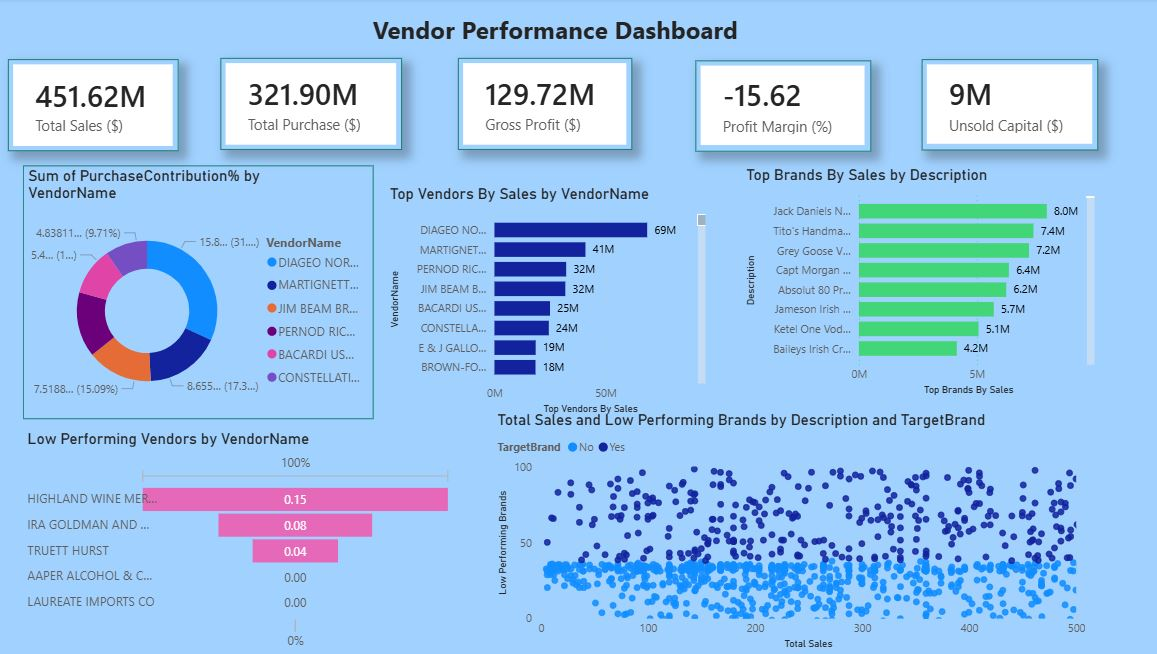

What the dashboard file says about the page in this screenshot:
{"tool":"powerbi","page":{"name":"Page 1","canvas":[1280,720],"ordinal":0},"visuals":[{"type":"cardVisual","fields":{"Data":["Sum(vendor_sales_summary.TotalSalesDollars)"]},"box":[16.6,67.9,187.1,101.1],"z":0},{"type":"cardVisual","fields":{"Data":["Sum(vendor_sales_summary.TotalPurchaseDollars)"]},"box":[249.4,66.5,199.5,101.1],"z":1000},{"type":"cardVisual","fields":{"Data":["Sum(vendor_sales_summary.GrossProfit)"]},"box":[509.9,66.5,191.2,101.1],"z":2000},{"type":"cardVisual","fields":{"Data":["Avg(vendor_sales_summary.ProfitMargin)"]},"box":[771.8,69.3,192.6,99.8],"z":3000},{"type":"cardVisual","fields":{"Data":["Sum(vendor_sales_summary.UnsoldCapital)"]},"box":[1019.8,67.9,194,99.8],"z":4000},{"type":"donutChart","fields":{"Y":["Sum(PurchaseContribution.PurchaseContribution%)"],"Category":["PurchaseContribution.VendorName"]},"box":[33.3,184.3,385.2,278.5],"z":5000},{"type":"clusteredBarChart","fields":{"Category":["vendor_sales_summary.VendorName"],"Y":["Sum(vendor_sales_summary.TotalSalesDollars)"]},"box":[430.9,205.1,356.1,257.7],"z":6000},{"type":"clusteredBarChart","fields":{"Category":["vendor_sales_summary.Description"],"Y":["Sum(vendor_sales_summary.TotalSalesDollars)"]},"box":[821.7,184.3,392.1,257.7],"z":7000},{"type":"funnel","fields":{"Category":["LowTurnoverVendor.VendorName"],"Y":["Sum(LowTurnoverVendor.AvgStockTurnover)"]},"box":[33.3,473.9,476.6,246.6],"z":8000},{"type":"scatterChart","fields":{"Category":["BrandPerformance.Description"],"X":["Sum(BrandPerformance.TotalSales)"],"Y":["Sum(BrandPerformance.AvgProfitMargin)"],"Series":["BrandPerformance.TargetBrand"]},"box":[548.7,453.1,655.4,267.4],"z":8001},{"type":"textbox","box":[406,11.1,422.6,58.2],"z":8002}]}

Visuals, with their boxes in screenshot pixels (x1, y1, x2, y2), scaled from the page's 1280x720 canvas onto the 1157x654 screenshot:
cardVisual - Sum(vendor_sales_summary.TotalSalesDollars): bbox=(15, 62, 184, 154)
cardVisual - Sum(vendor_sales_summary.TotalPurchaseDollars): bbox=(225, 60, 406, 152)
cardVisual - Sum(vendor_sales_summary.GrossProfit): bbox=(461, 60, 634, 152)
cardVisual - Avg(vendor_sales_summary.ProfitMargin): bbox=(698, 63, 872, 154)
cardVisual - Sum(vendor_sales_summary.UnsoldCapital): bbox=(922, 62, 1097, 152)
donutChart - Sum(PurchaseContribution.PurchaseContribution%) x PurchaseContribution.VendorName: bbox=(30, 167, 378, 420)
clusteredBarChart - vendor_sales_summary.VendorName x Sum(vendor_sales_summary.TotalSalesDollars): bbox=(389, 186, 711, 420)
clusteredBarChart - vendor_sales_summary.Description x Sum(vendor_sales_summary.TotalSalesDollars): bbox=(743, 167, 1097, 401)
funnel - LowTurnoverVendor.VendorName x Sum(LowTurnoverVendor.AvgStockTurnover): bbox=(30, 430, 461, 653)
scatterChart - BrandPerformance.Description x Sum(BrandPerformance.TotalSales): bbox=(496, 412, 1088, 653)
textbox: bbox=(367, 10, 749, 63)
